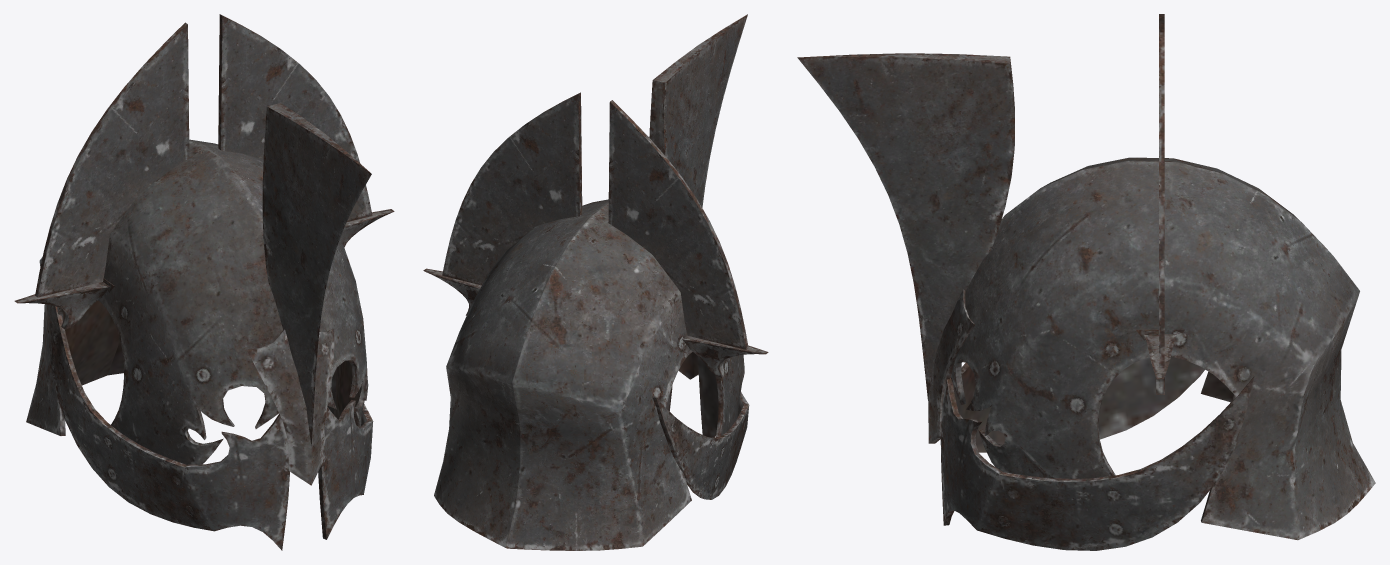
File: sk_gb_uruk_helmet_elite_g.fbx
The picture shows the model from 3 angles, left to right: view 1: azimuth 30°, elevation 25°; view 2: azimuth 150°, elevation 25°; view 3: azimuth 270°, elevation 25°; orthographic projection. The views are drawn at different scales.
Parts seen in each view (by area): view 1: sk_gb_uruk_helmet_elite_g; view 2: sk_gb_uruk_helmet_elite_g; view 3: sk_gb_uruk_helmet_elite_g.
Part boxes in pixels (x1,y1,x2,y2): sk_gb_uruk_helmet_elite_g: (14, 14, 394, 550); sk_gb_uruk_helmet_elite_g: (423, 14, 768, 550); sk_gb_uruk_helmet_elite_g: (797, 14, 1375, 550).
Bounding box in the file's own units: 0.321 × 0.3934 × 0.3682.
Materials: 1 (1 with a texture image).
